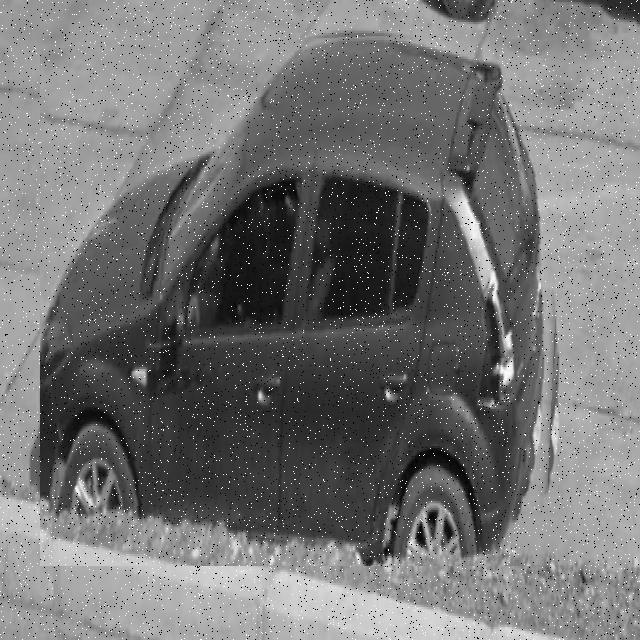car: (41, 30, 569, 567)
